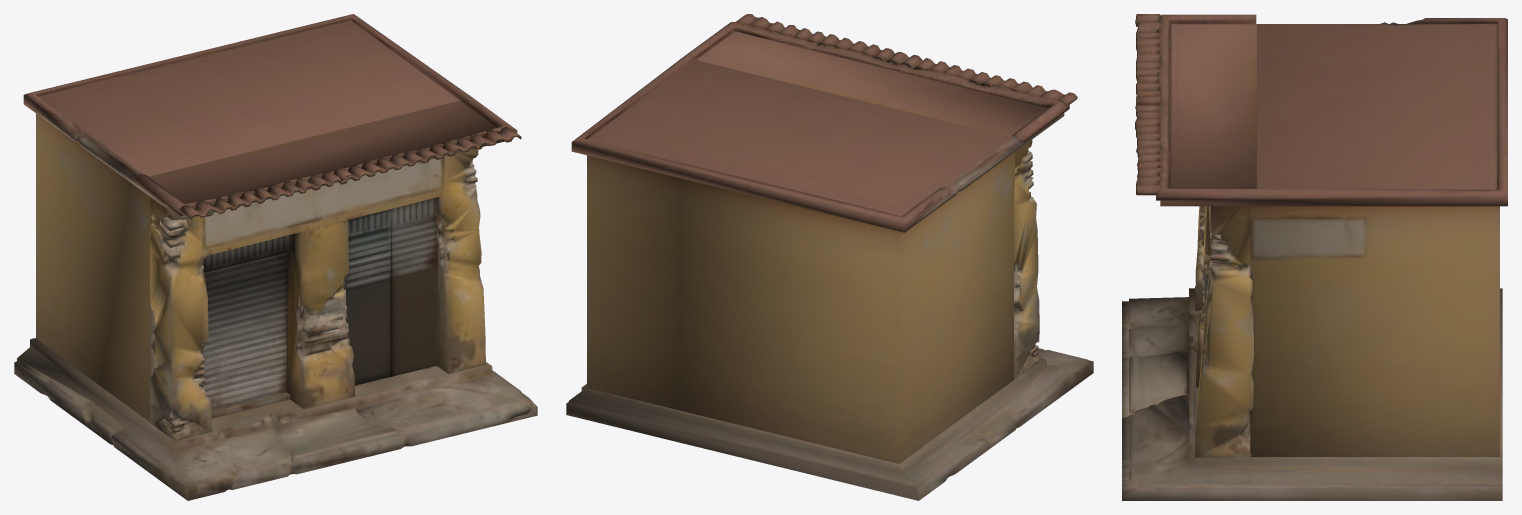
The model's file is javaporcos_mint_fachada.glb.
The picture shows the model from 3 angles, left to right: view 1: azimuth 30°, elevation 25°; view 2: azimuth 150°, elevation 25°; view 3: azimuth 270°, elevation 25°; orthographic projection. The views are drawn at different scales.
Visible parts, largest first — view 1: Fachada de comércio do interior; view 2: Fachada de comércio do interior; view 3: Fachada de comércio do interior.
Boxes of the visible parts, x1,y1,x2,y2 form: Fachada de comércio do interior: [14, 14, 537, 500]; Fachada de comércio do interior: [566, 14, 1093, 500]; Fachada de comércio do interior: [1122, 14, 1507, 500].
Size of the model in its own units: 5.23 by 4 by 4.55.
1 material, 1 textured.
